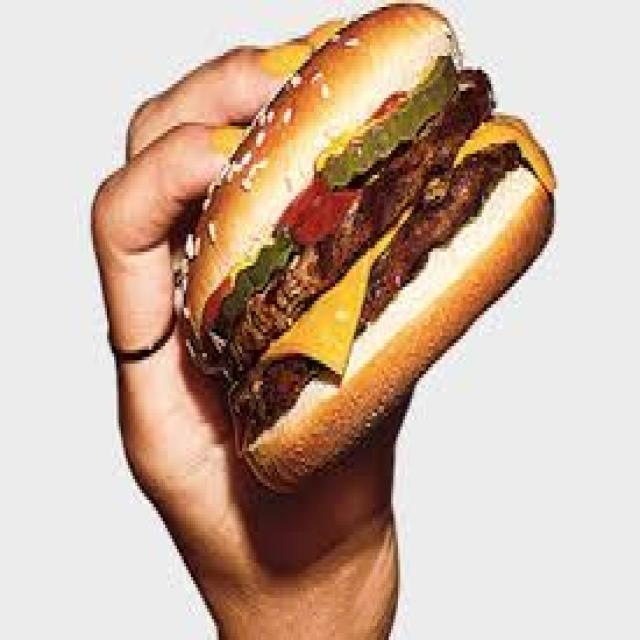햄버거: (182, 7, 556, 497)
